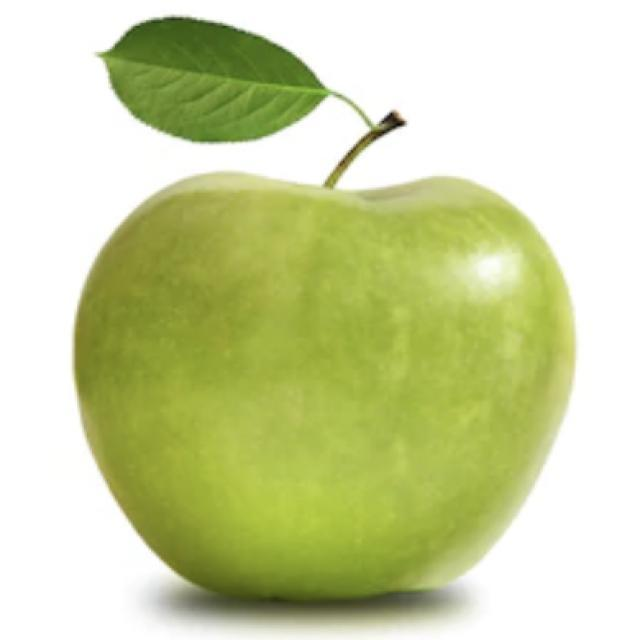Fresh Apple: (90, 164, 592, 608)
